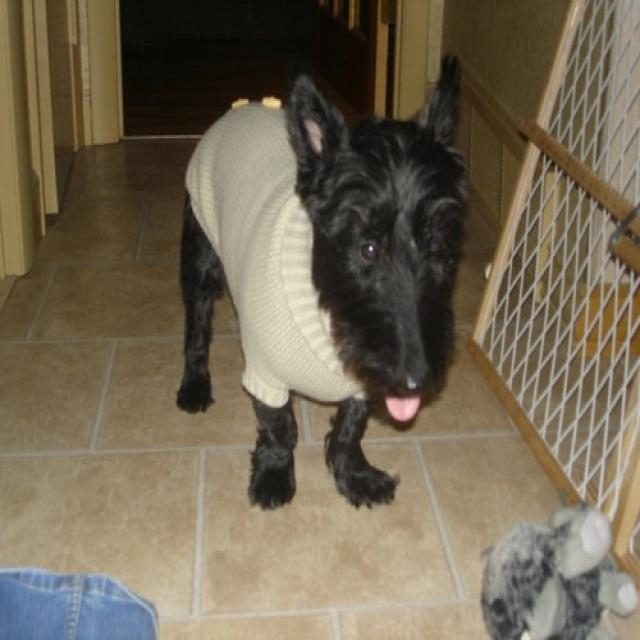dog-scottish_terrier: (284, 48, 463, 425)
